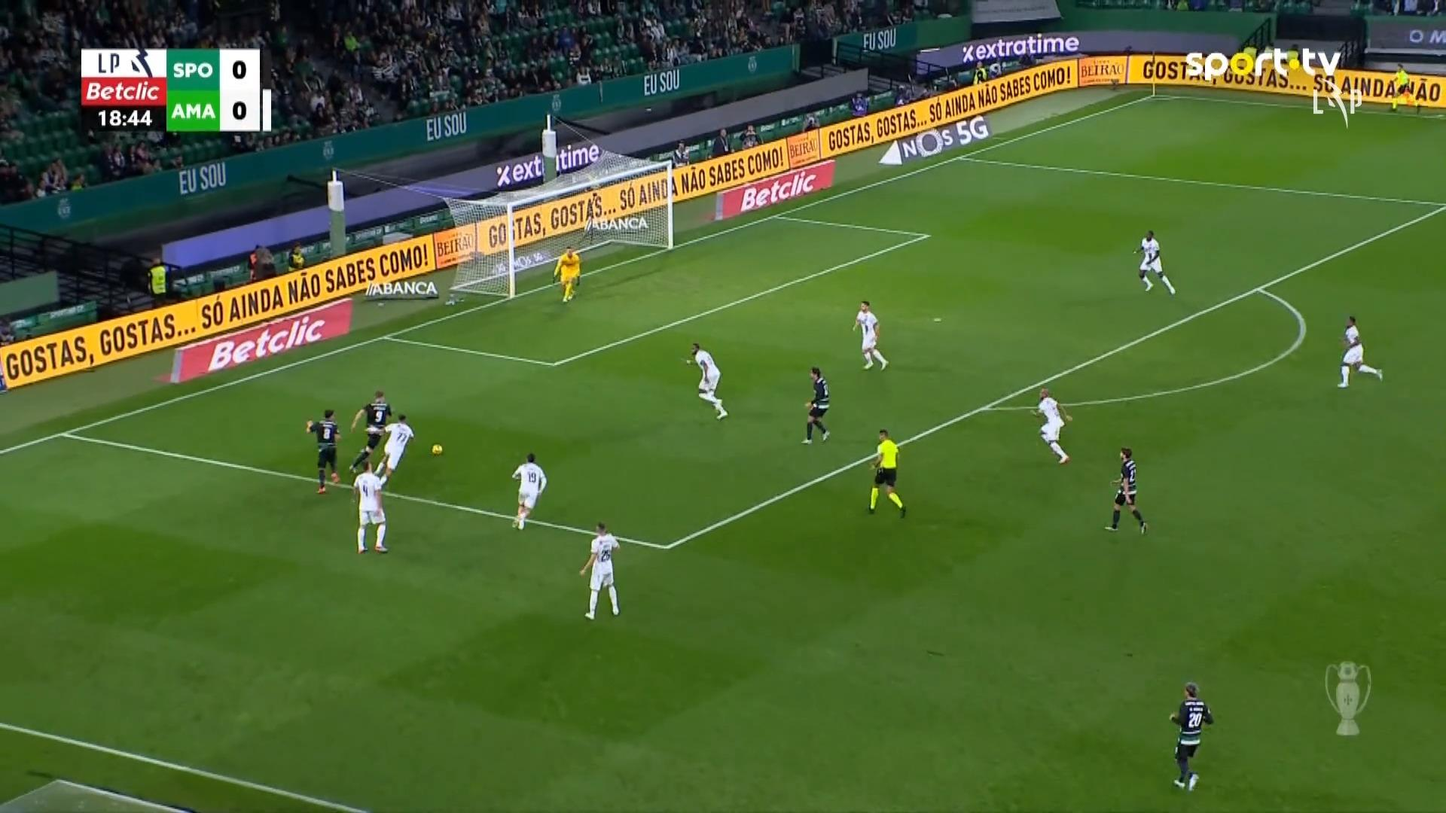ball: (431, 443, 442, 455)
goalkeeper: (553, 245, 581, 303)
player: (1168, 681, 1213, 790), (578, 521, 621, 620), (1103, 446, 1148, 534), (348, 389, 391, 473), (351, 458, 389, 553), (685, 342, 728, 420), (1337, 315, 1383, 387), (1032, 387, 1072, 464), (305, 409, 341, 494), (373, 412, 414, 486), (510, 452, 547, 531), (1132, 229, 1176, 294), (851, 300, 888, 370), (801, 366, 831, 443)
referee: (866, 428, 907, 519), (1389, 63, 1420, 115)
